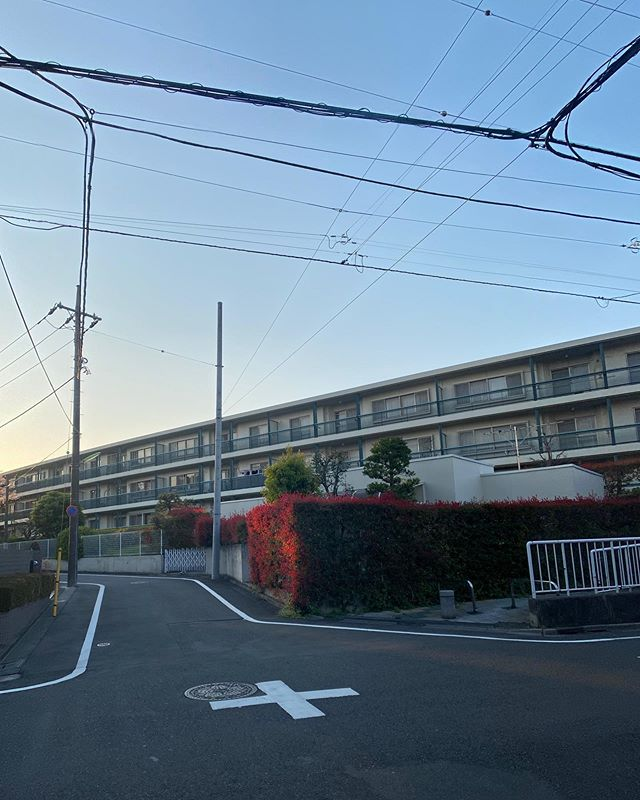building: (20, 346, 640, 563)
sky: (15, 1, 640, 414)
street: (1, 587, 599, 800)
